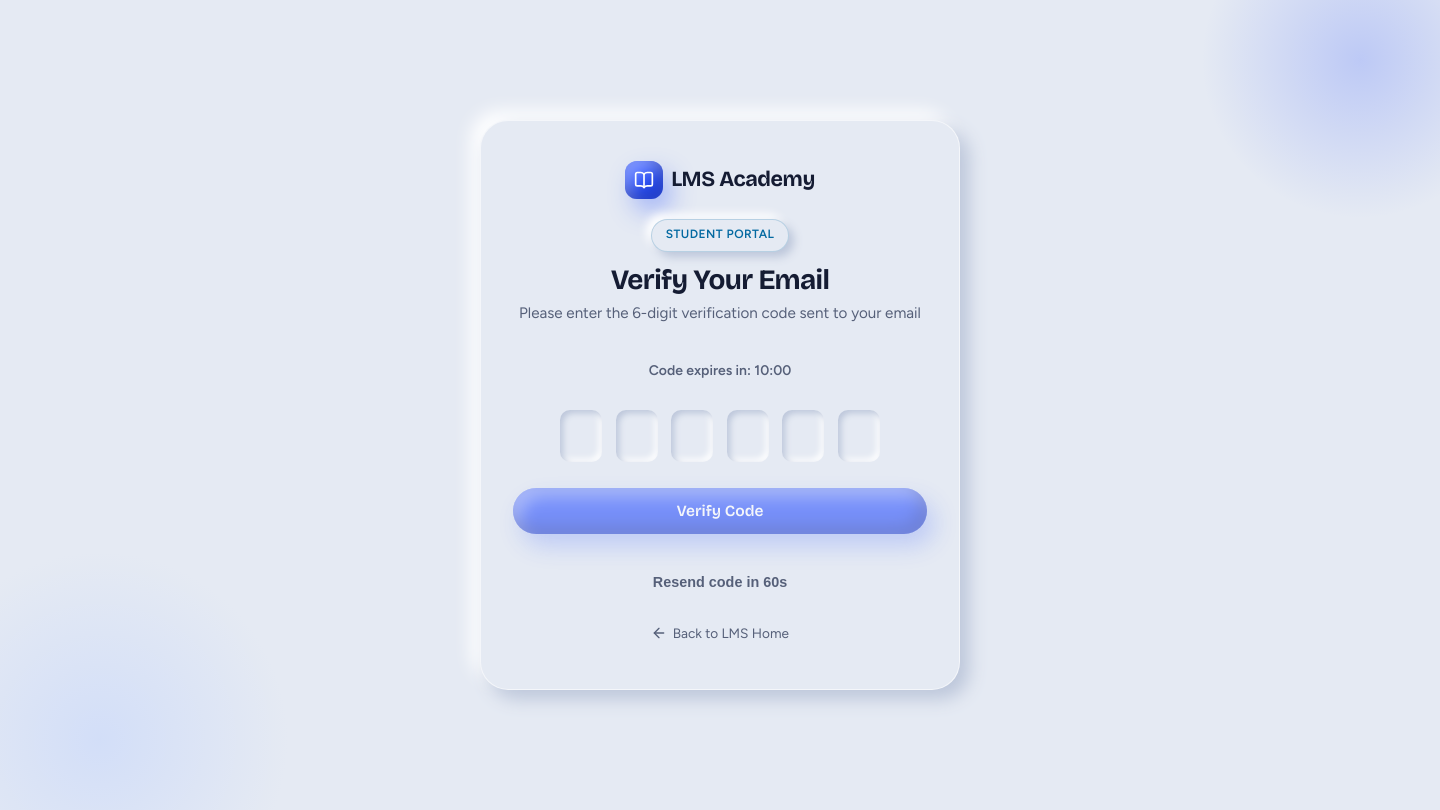
Scenario: VerifyEmailPage Component › displays lockout notice when max attempts are exceeded
In the field named "digit": (581, 436) [558,408,604,464], type "9"
In the field named "digit": (637, 436) [614,408,660,464], type "9"
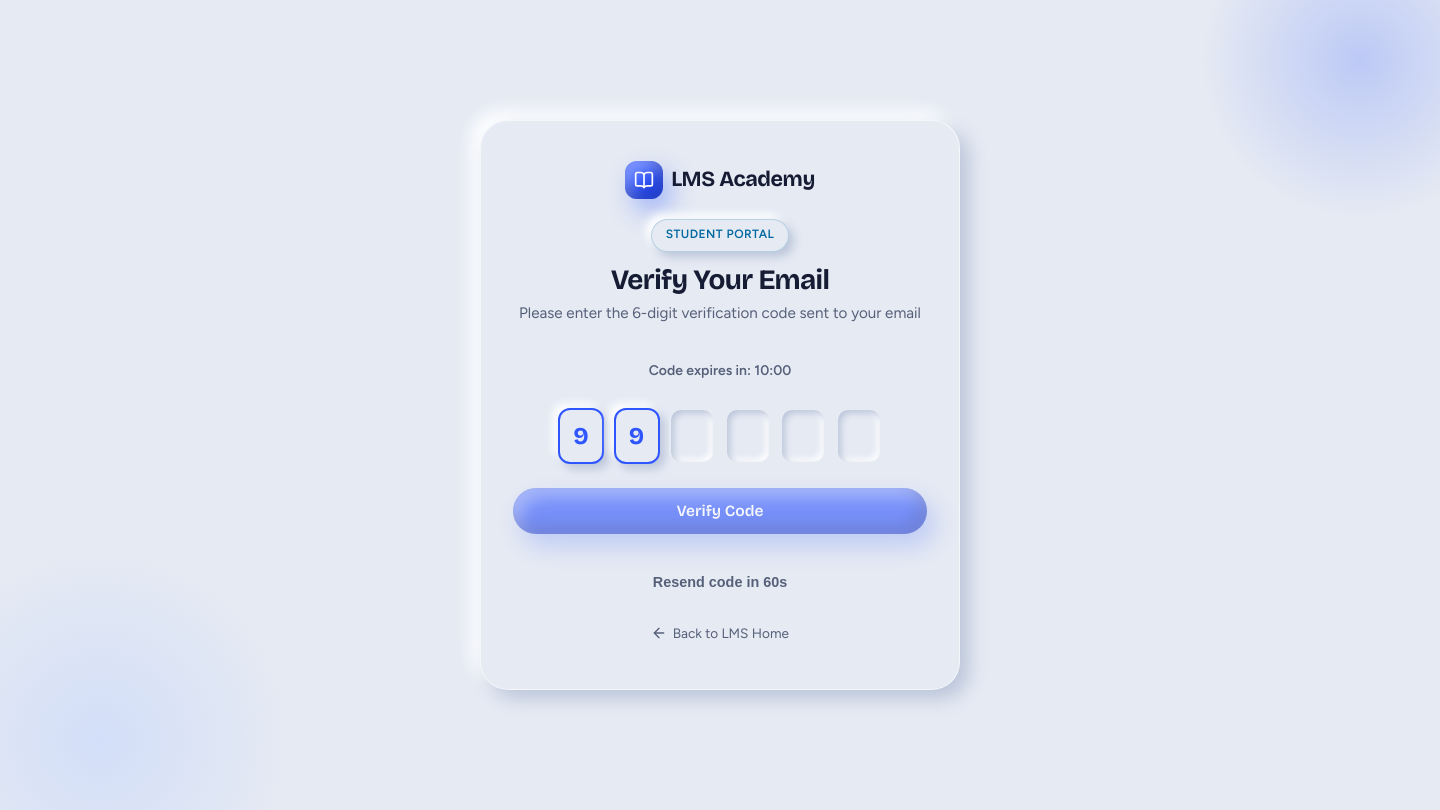
In the field named "digit": (692, 436) [669,408,715,464], type "9"
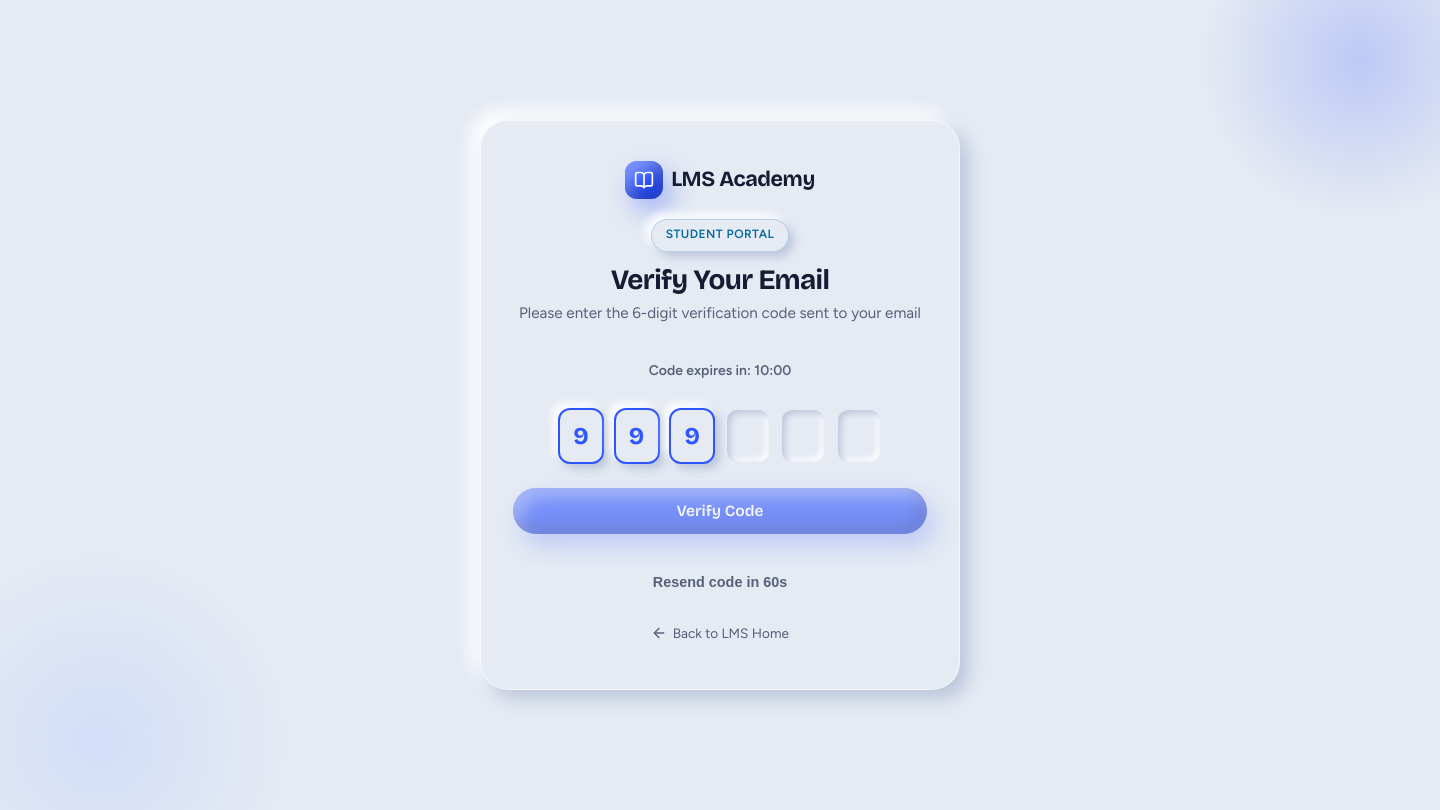
In the field named "digit": (748, 436) [725,408,771,464], type "9"
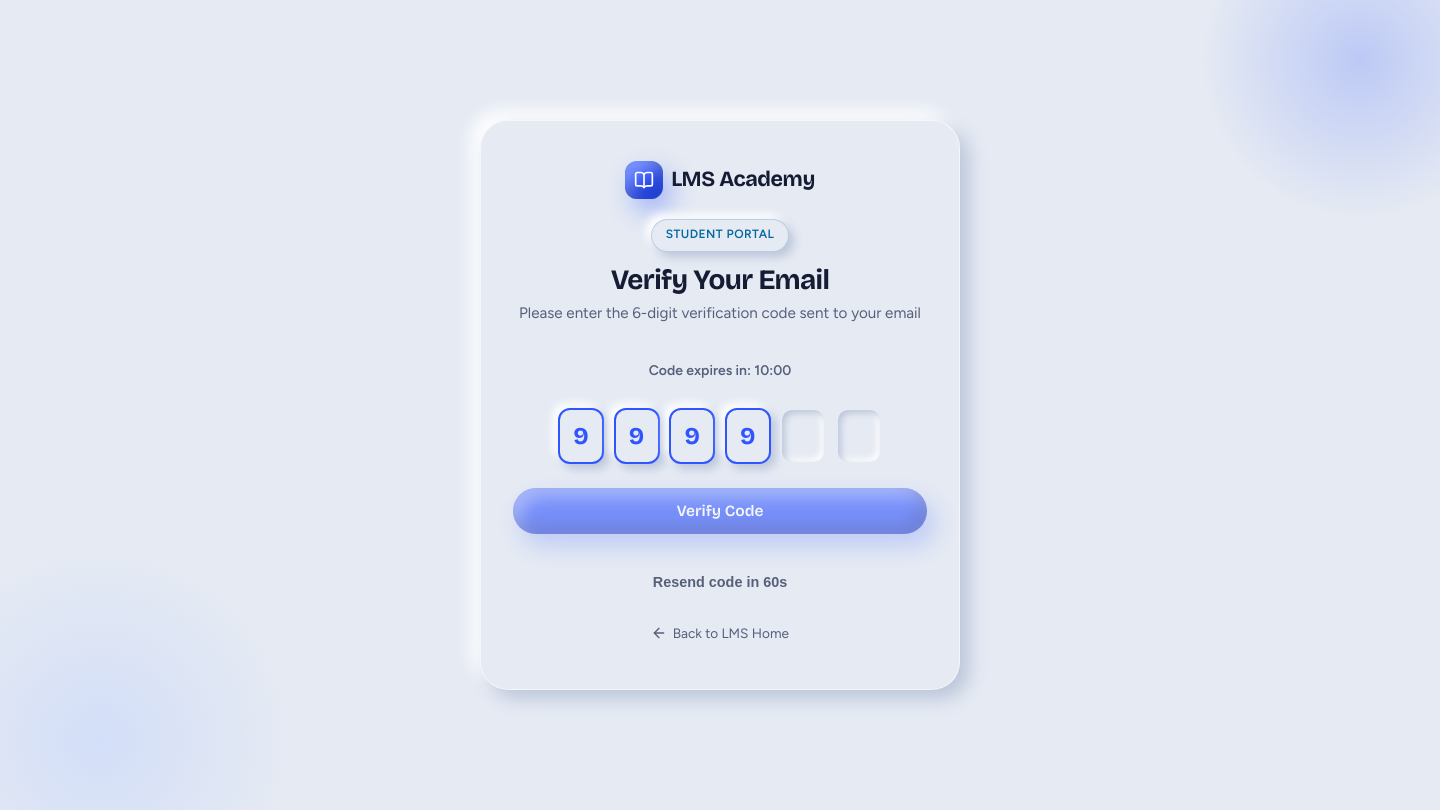
In the field named "digit": (803, 436) [780,408,826,464], type "9"
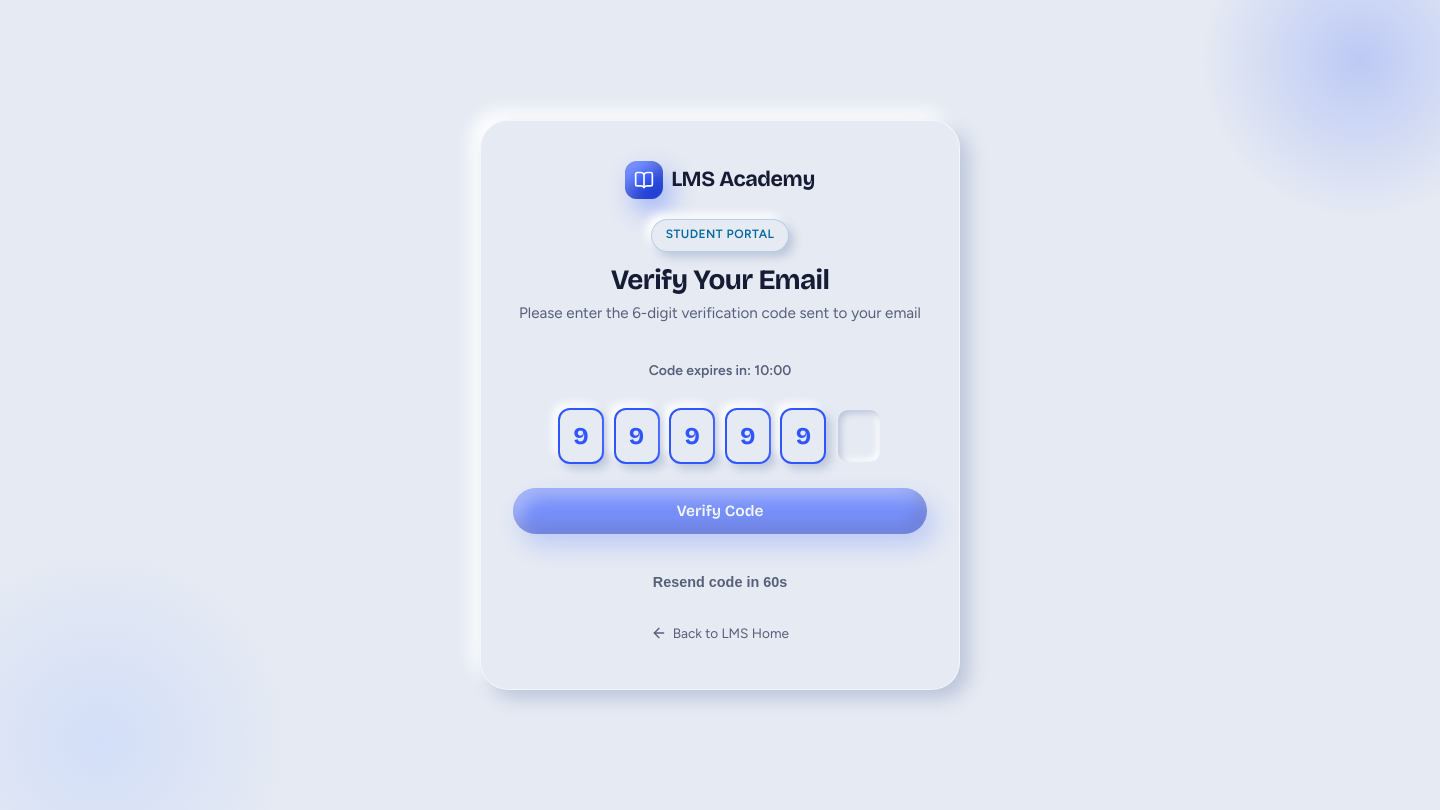
In the field named "digit": (859, 436) [836,408,882,464], type "9"
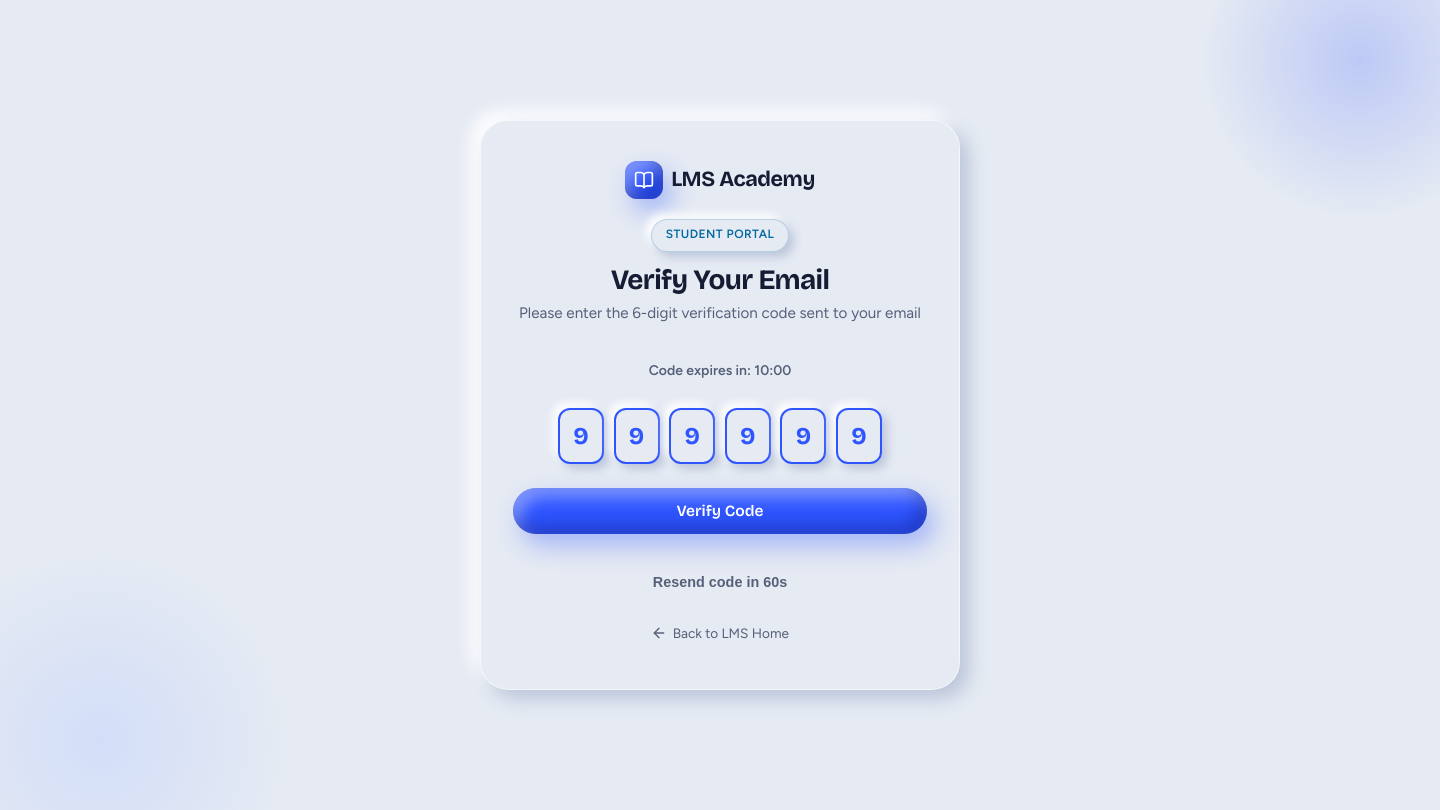
Click the button "Verify Code": (720, 511) [513,488,927,534]
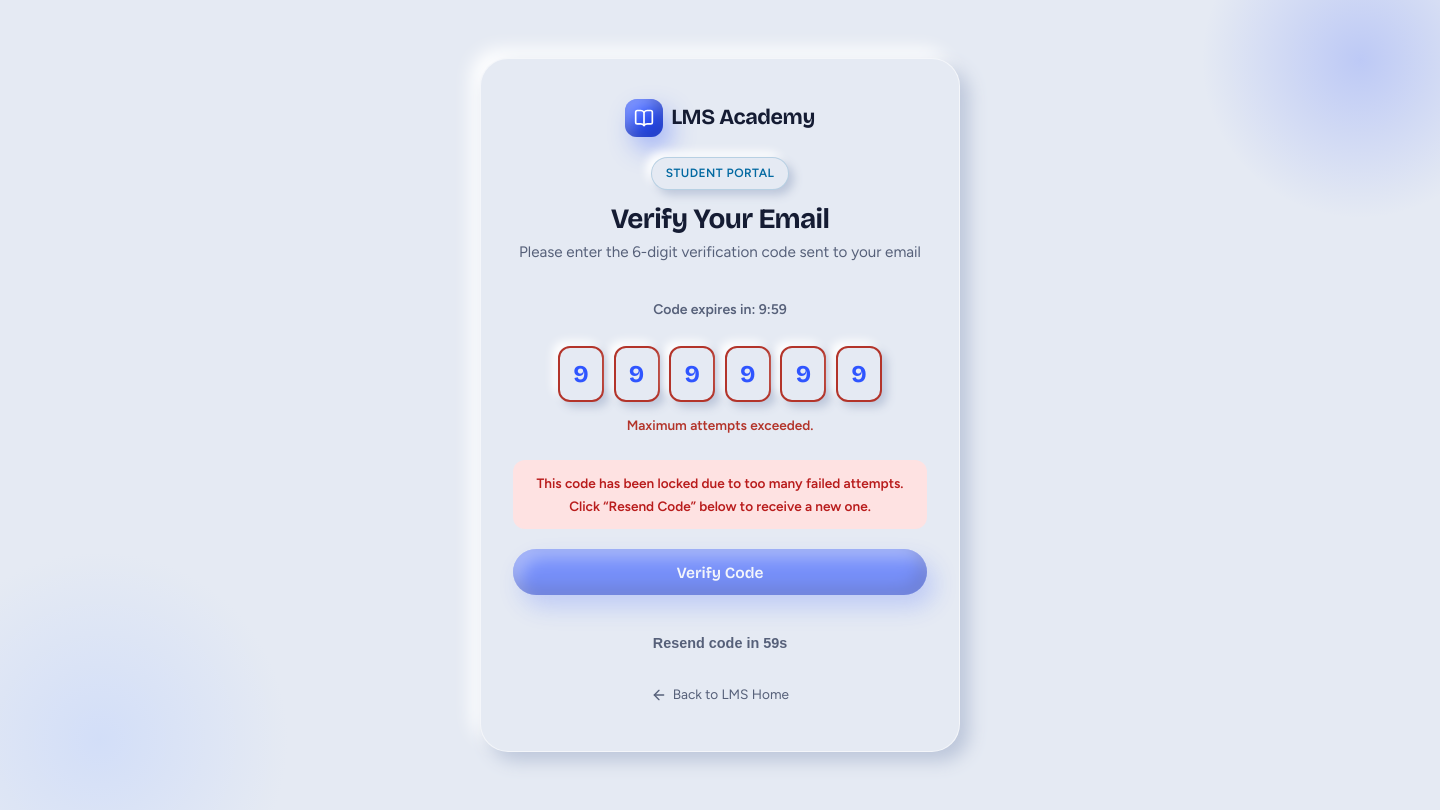
Expected: the text "This code has been locked" is shown, [536,475,904,514]
